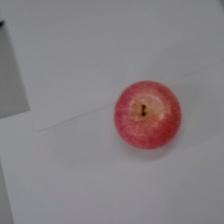red: (113, 78, 182, 151)
